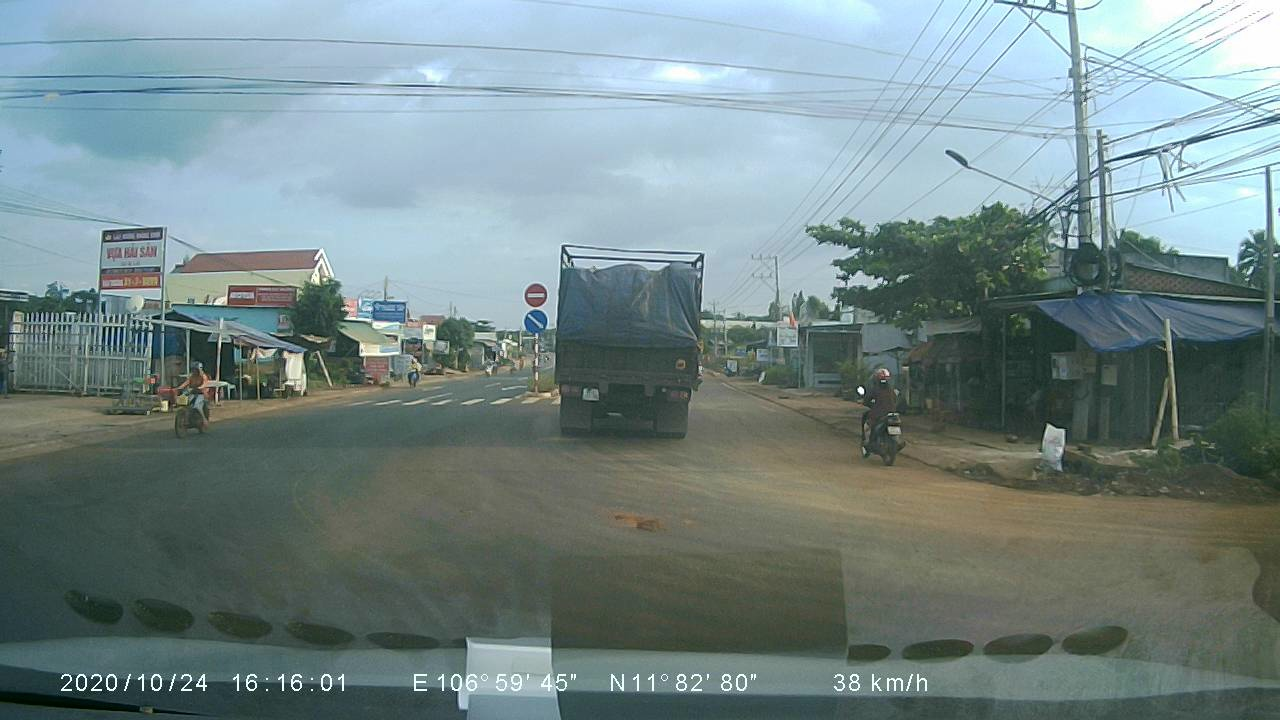Cam di nguoc chieu: (523, 279, 546, 305)
Huong di phai re phai: (521, 308, 549, 335)
